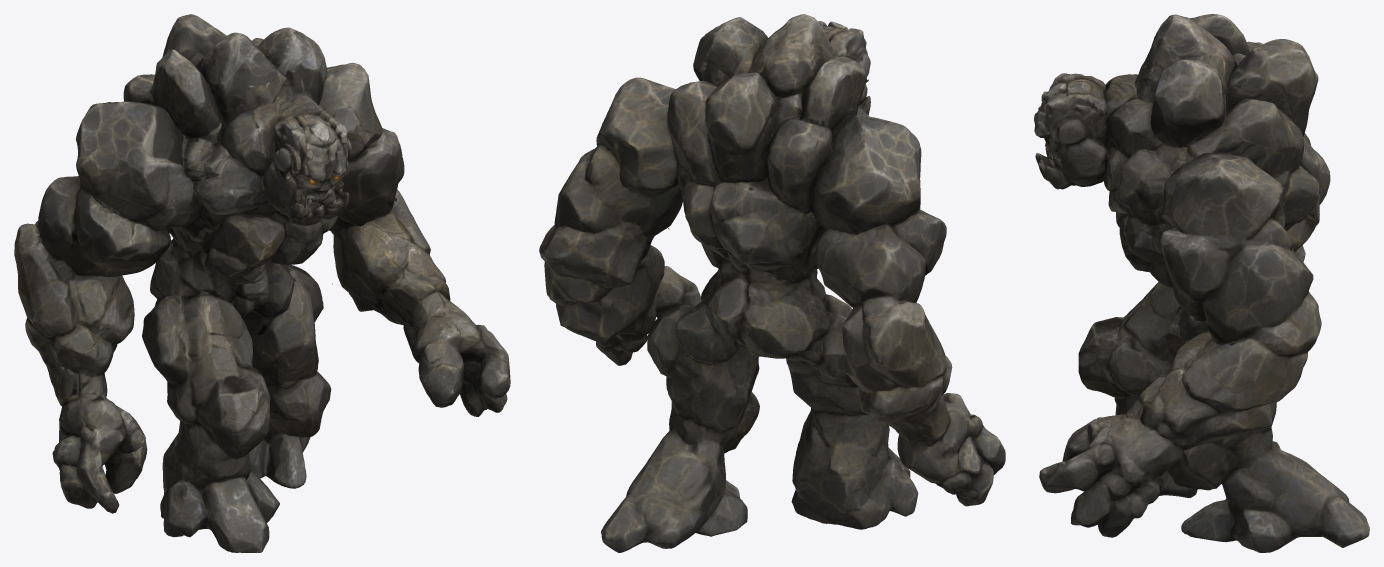
Rendered from moon_guardian.glb.
3 renders of one model, left to right at view 1: azimuth 30°, elevation 25°; view 2: azimuth 150°, elevation 25°; view 3: azimuth 270°, elevation 25°, orthographic. The views are drawn at different scales.
Parts seen in each view (by area): view 1: frame; view 2: frame; view 3: frame.
Part boxes in pixels (x1=…): frame: x1=14, y1=14, x2=510, y2=552; frame: x1=539, y1=14, x2=1005, y2=552; frame: x1=1034, y1=14, x2=1369, y2=552.
Bounding box in the file's own units: 4.05 × 4.5 × 2.83.
1 material, 1 textured.
